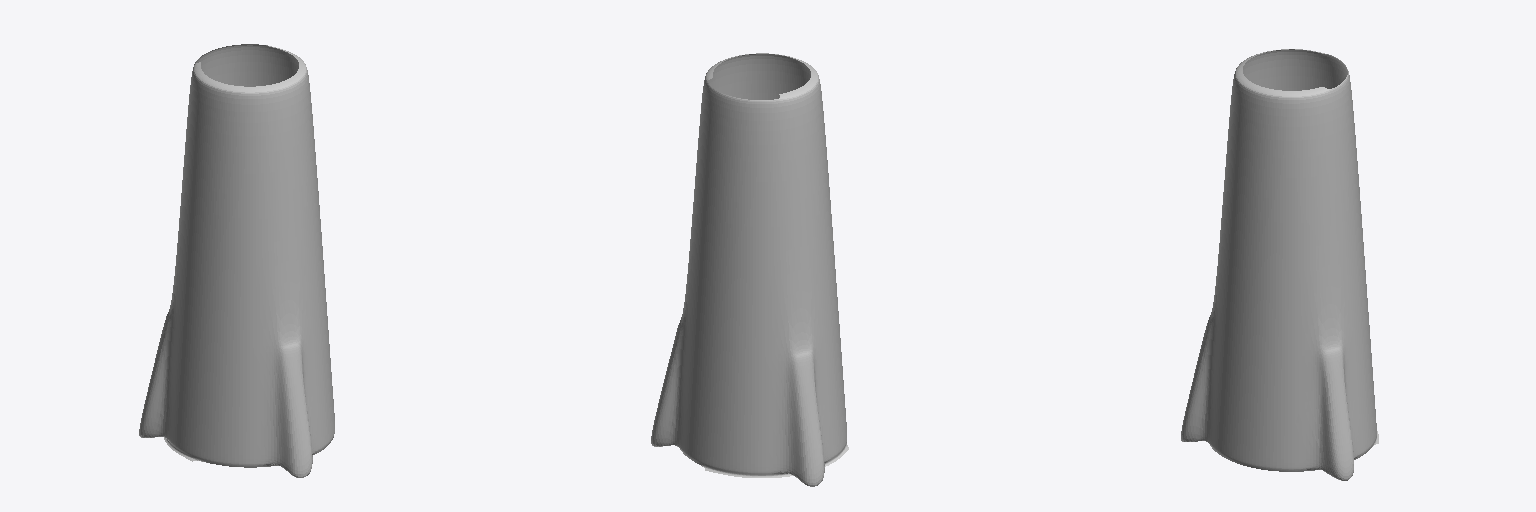
Rendered from dongfeng-2.obj.
The picture shows the model from 3 angles: view 1: azimuth 30°, elevation 25°; view 2: azimuth 150°, elevation 25°; view 3: azimuth 270°, elevation 25°; orthographic projection.
Parts seen in each view (by area): view 1: erji; view 2: erji; view 3: erji.
Part boxes in pixels (left/top/right/bottom): erji: left=139, top=44, right=334, bottom=477; erji: left=651, top=53, right=848, bottom=486; erji: left=1181, top=49, right=1378, bottom=480.
Size of the model in its own units: 0.7274 by 1.52 by 0.7347.